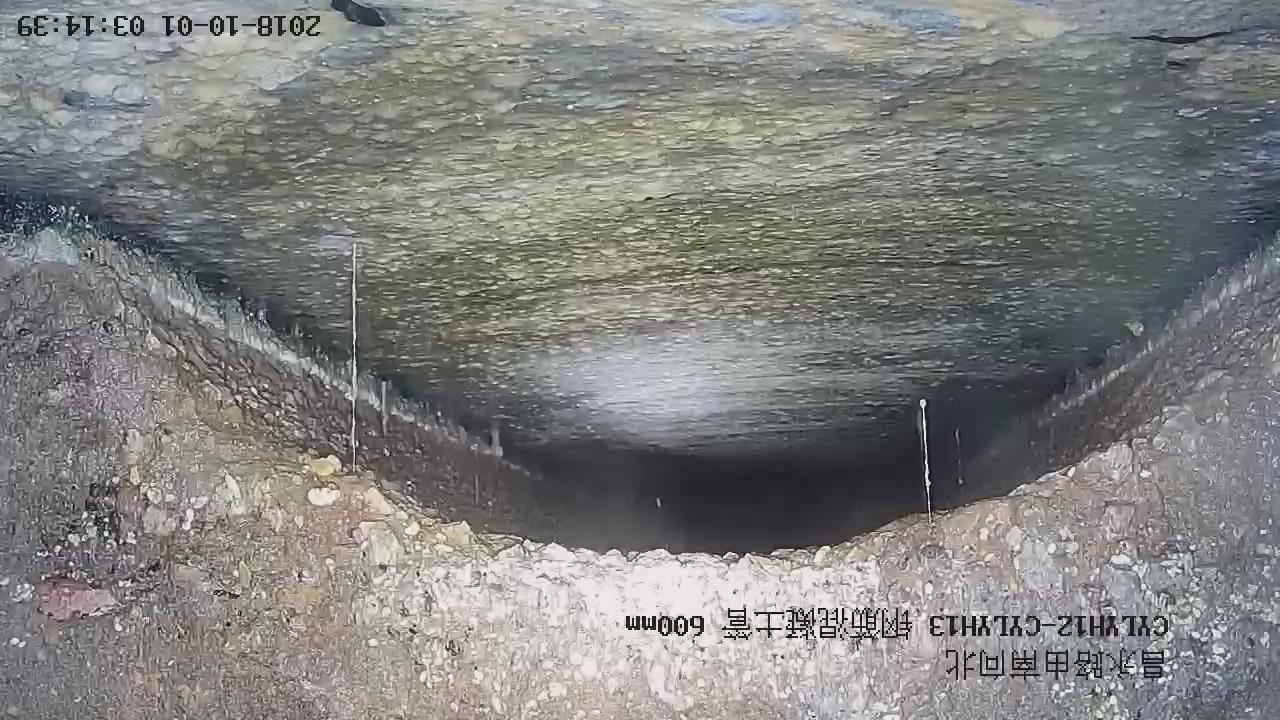FZ: (1, 1, 1280, 466)
